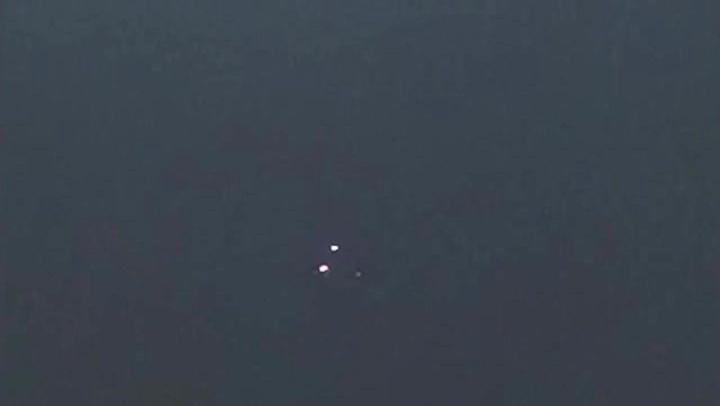Plane: (295, 232, 367, 291)
